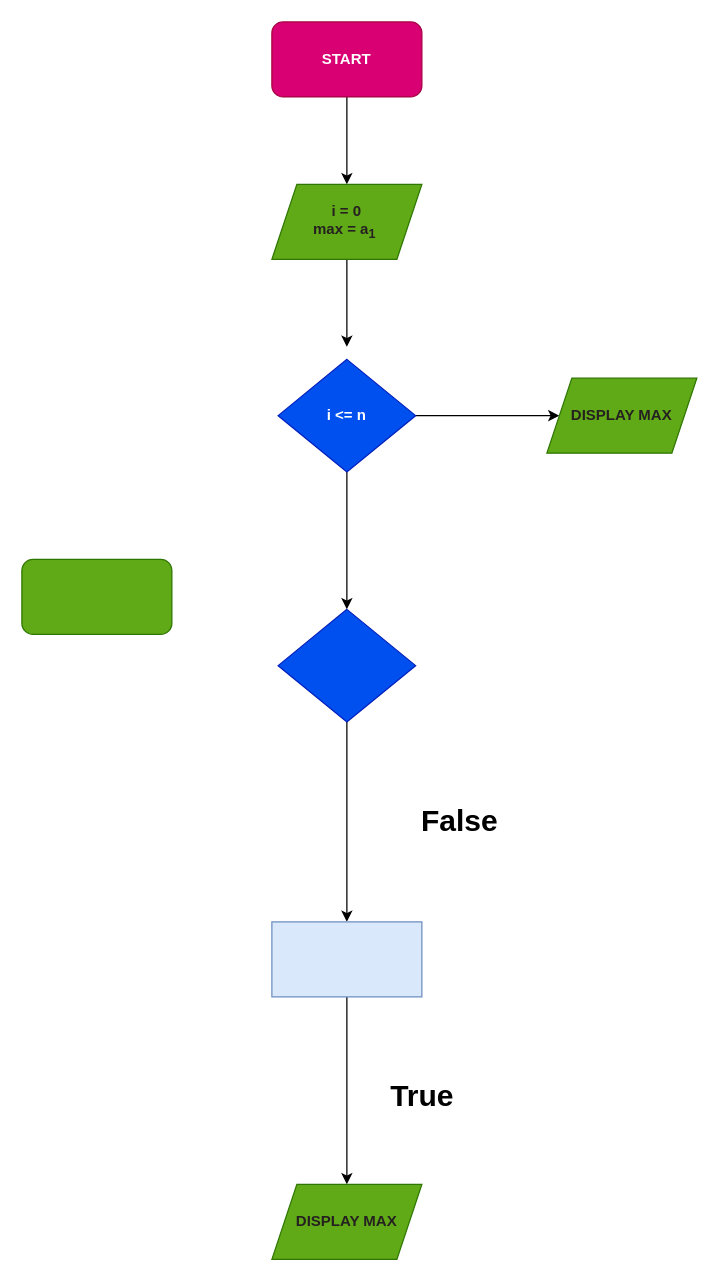
Some shapes in this 719 by 1281 pixel diagram are drawn without their labels. Here are the shapes that lost their labels. From the top down, the centre of each, then its label:
point 96,596: i = i + 1
point 346,665: max < = a i
point 346,959: MAX = a i
